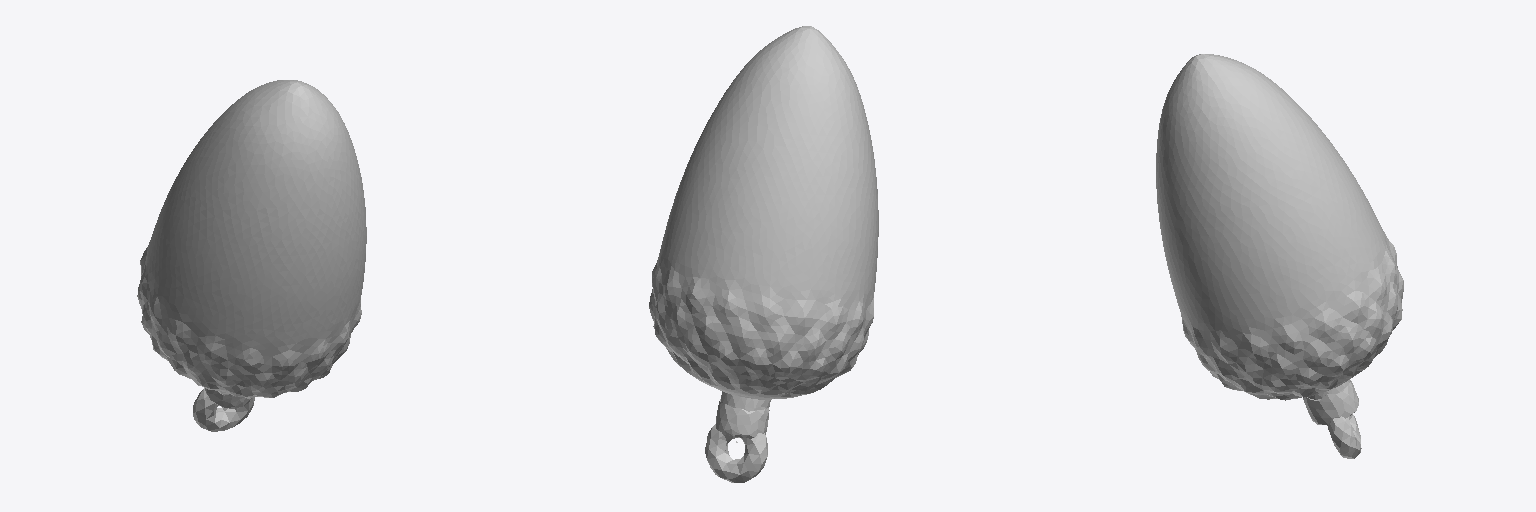
The model's file is pinecone.obj.
3 views of the same model, side by side, from view 1: azimuth 30°, elevation 25°; view 2: azimuth 150°, elevation 25°; view 3: azimuth 270°, elevation 25° (orthographic).
Visible parts, largest first — view 1: _12163_Ornament_glass_part, default; view 2: _12163_Ornament_glass_part, default, _12163_Ornament_metal_part; view 3: _12163_Ornament_glass_part, _12163_Ornament_metal_part, default.
Part boxes in pixels (bbox=[...]): _12163_Ornament_glass_part: bbox=[137, 80, 366, 398]; default: bbox=[193, 388, 254, 431]; _12163_Ornament_glass_part: bbox=[649, 26, 878, 411]; default: bbox=[705, 424, 767, 482]; _12163_Ornament_metal_part: bbox=[716, 399, 769, 442]; _12163_Ornament_glass_part: bbox=[1156, 54, 1403, 400]; _12163_Ornament_metal_part: bbox=[1303, 380, 1358, 424]; default: bbox=[1327, 414, 1361, 458].
Size of the model in its own units: 4.22 by 8.21 by 4.61.